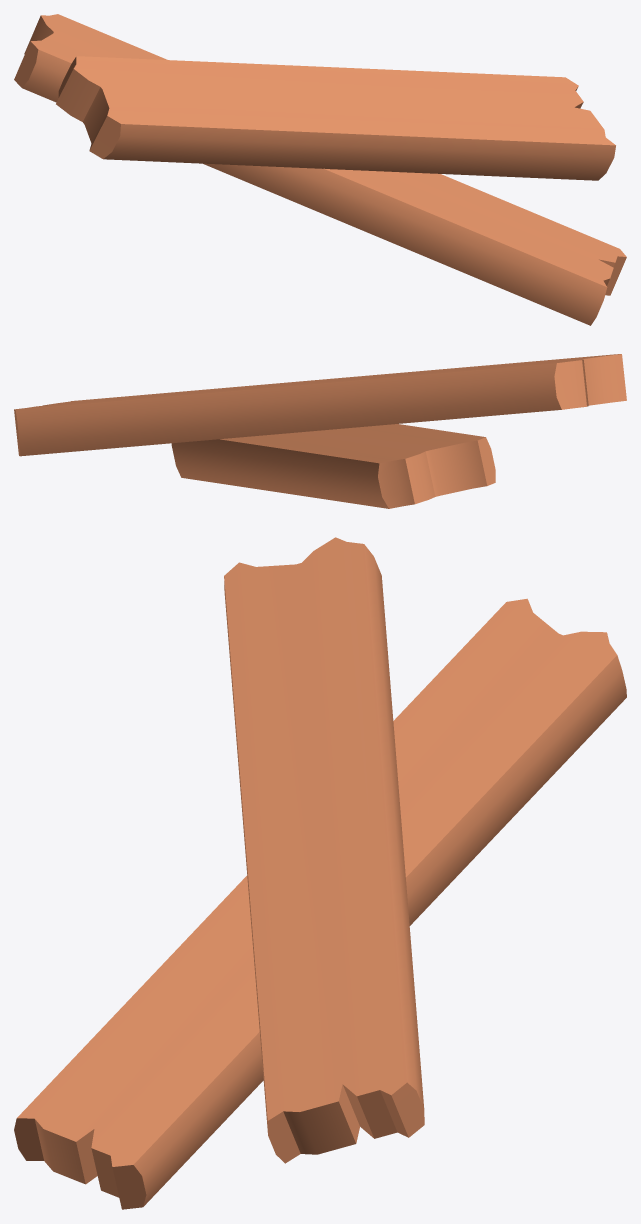
Rendered from g_planks.fbx.
3 views of the same model, one above another, from view 1: azimuth 30°, elevation 25°; view 2: azimuth 150°, elevation 25°; view 3: azimuth 270°, elevation 25° (orthographic). The views are drawn at different scales.
Parts seen in each view (by area): view 1: g_planks; view 2: g_planks; view 3: g_planks.
Boxes of the visible parts, box(x1,y1,x2,y2) form: g_planks: box(14, 14, 626, 325); g_planks: box(14, 354, 626, 508); g_planks: box(14, 537, 626, 1209).
Size of the model in its own units: 70.06 by 51.52 by 34.9.
